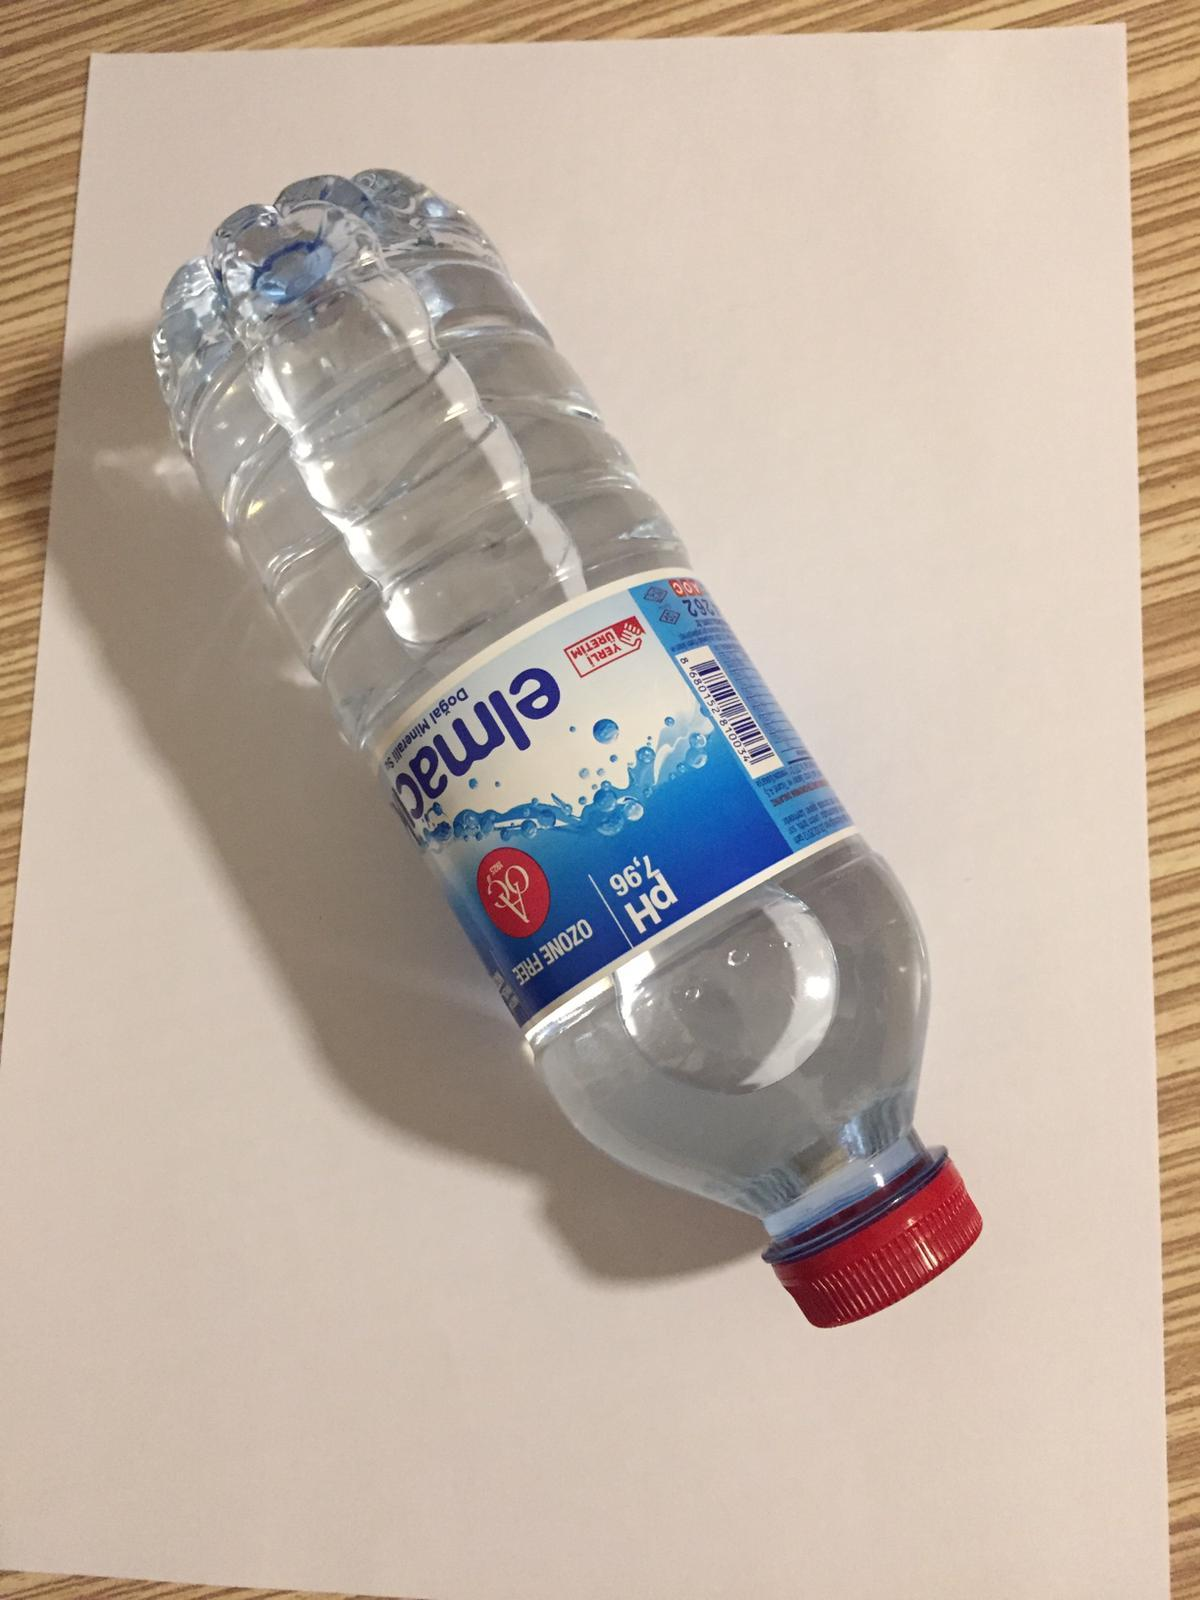bottle: (155, 157, 983, 1329)
